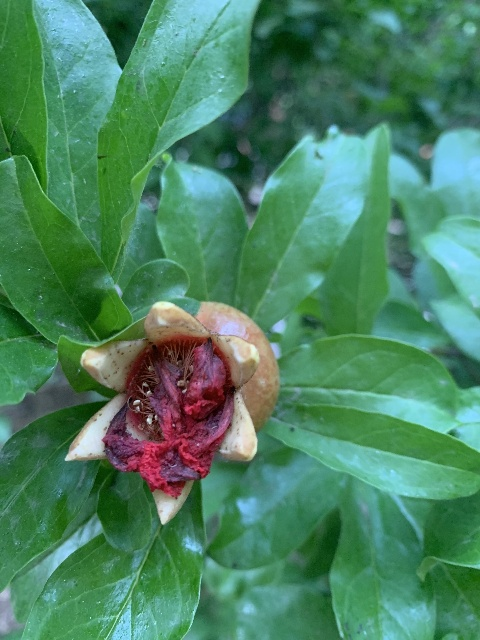early-fruit: (64, 300, 279, 525)
